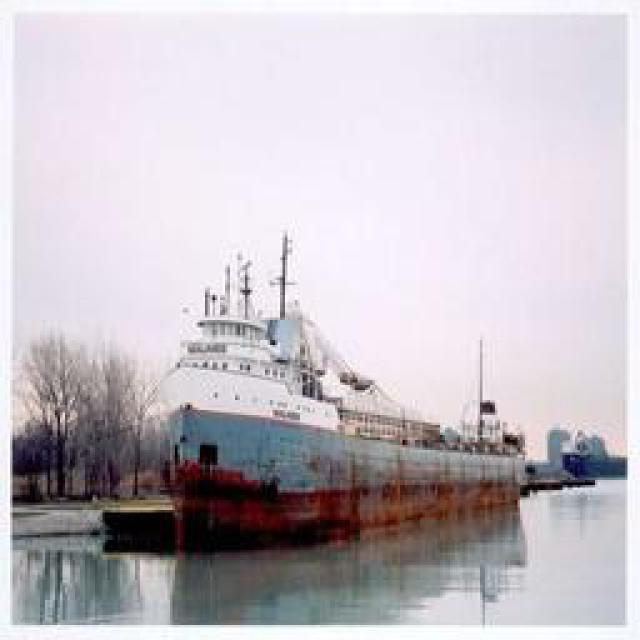Ship: (141, 248, 536, 533)
